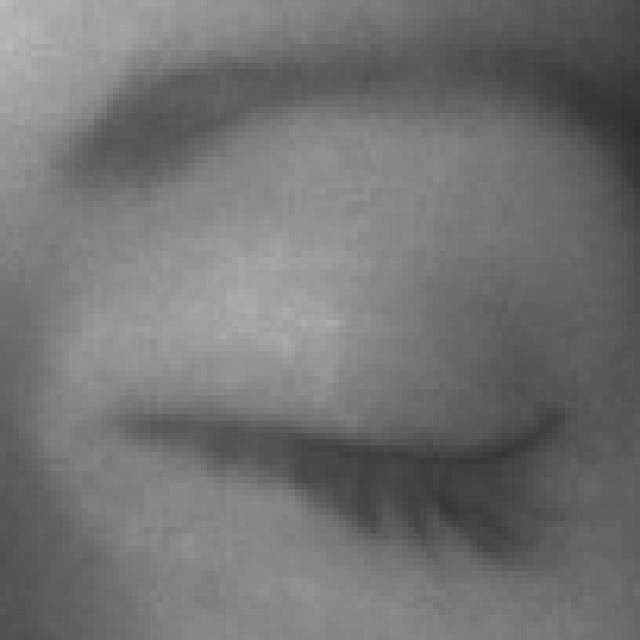Eyeclosed: (111, 238, 565, 640)
